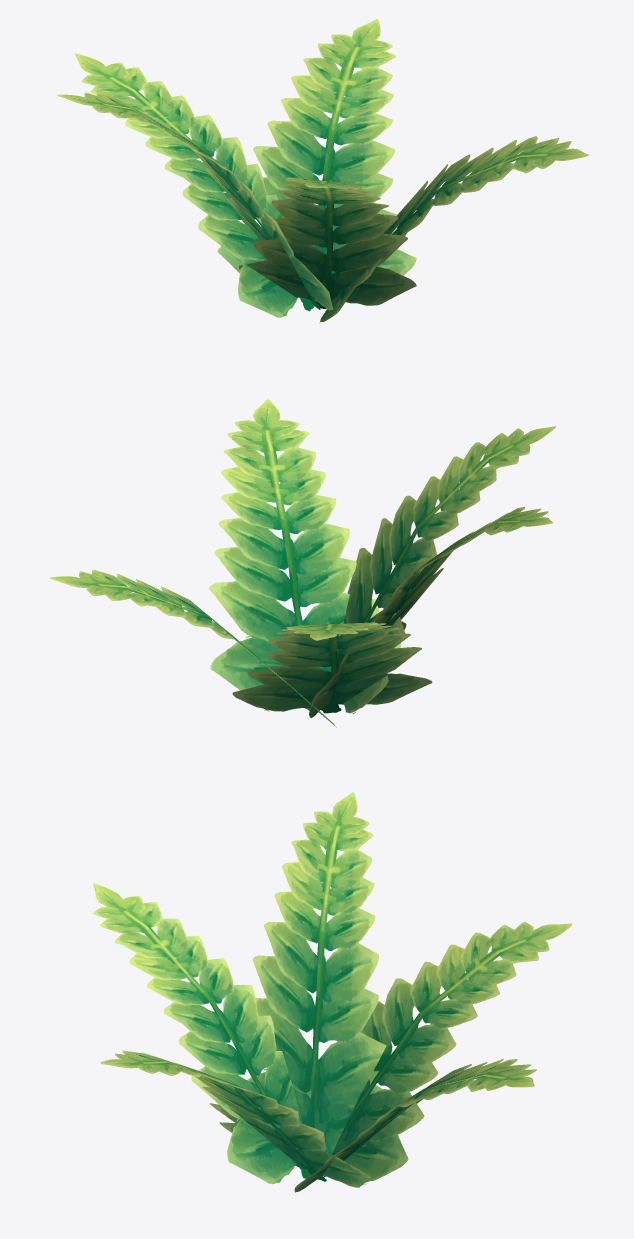
File: Fern_1.fbx
3 renders of one model, top to bottom at view 1: azimuth 30°, elevation 25°; view 2: azimuth 150°, elevation 25°; view 3: azimuth 270°, elevation 25°, orthographic.
Visible parts, largest first — view 1: pPlane11; view 2: pPlane11; view 3: pPlane11.
Boxes of the visible parts, box(x1,y1,x2,y2) form: pPlane11: box(57, 19, 588, 323); pPlane11: box(50, 399, 555, 727); pPlane11: box(93, 792, 572, 1192).
Bounding box in the file's own units: 433 × 230 × 450.
